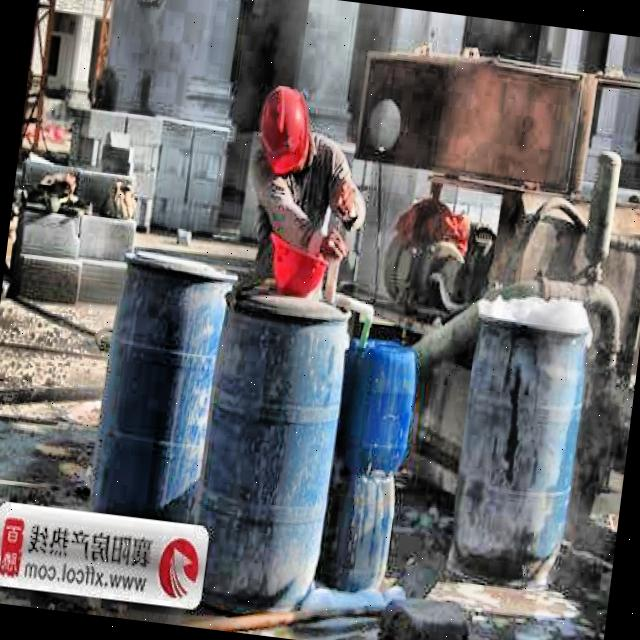helmet: (246, 79, 322, 182)
